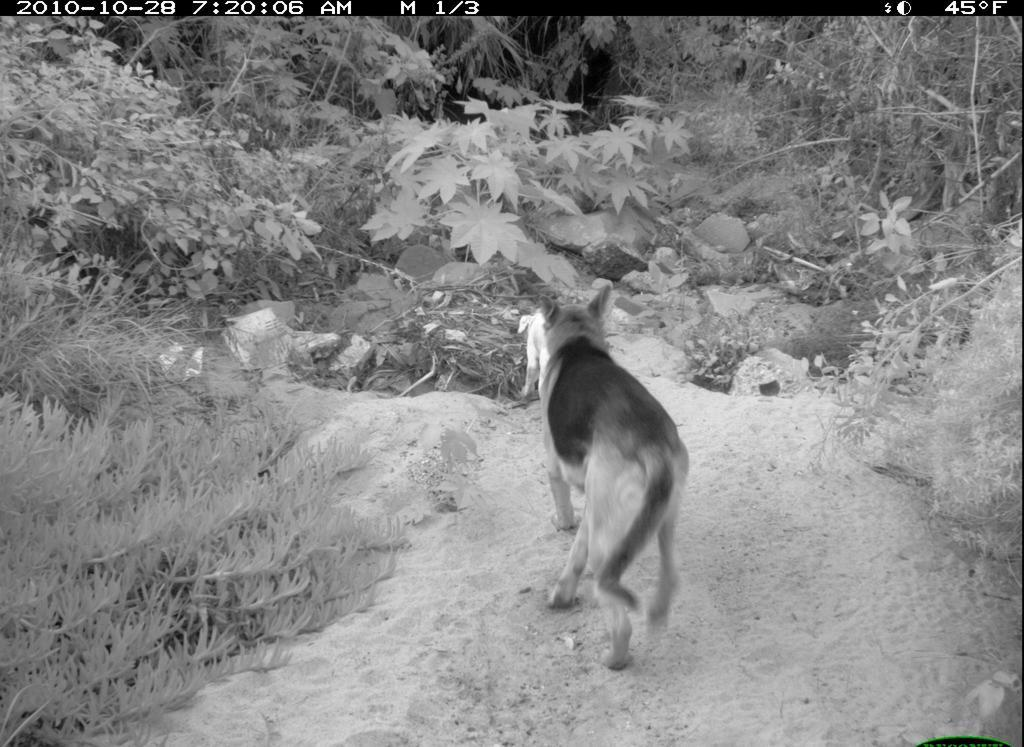dog: (506, 278, 696, 676)
